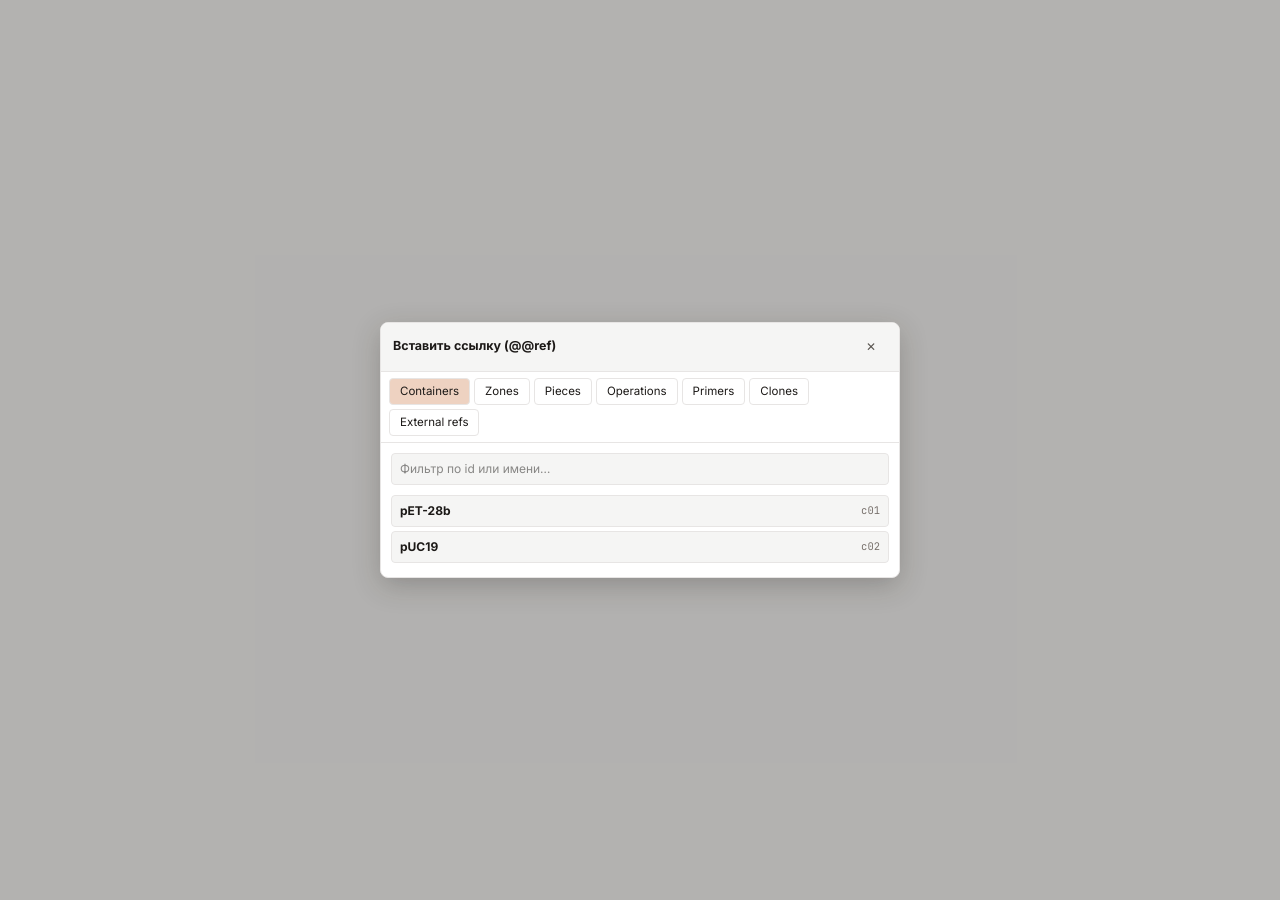
Test case: NB-K14 — NotebookRefPickerModal UI › search filter narrows the list
The width and height of the screenshot is (1280, 900).
Type "pUC" into the field with test id "ref-picker-search".
click(640, 469); type("pUC")  # box [391, 453, 889, 485]
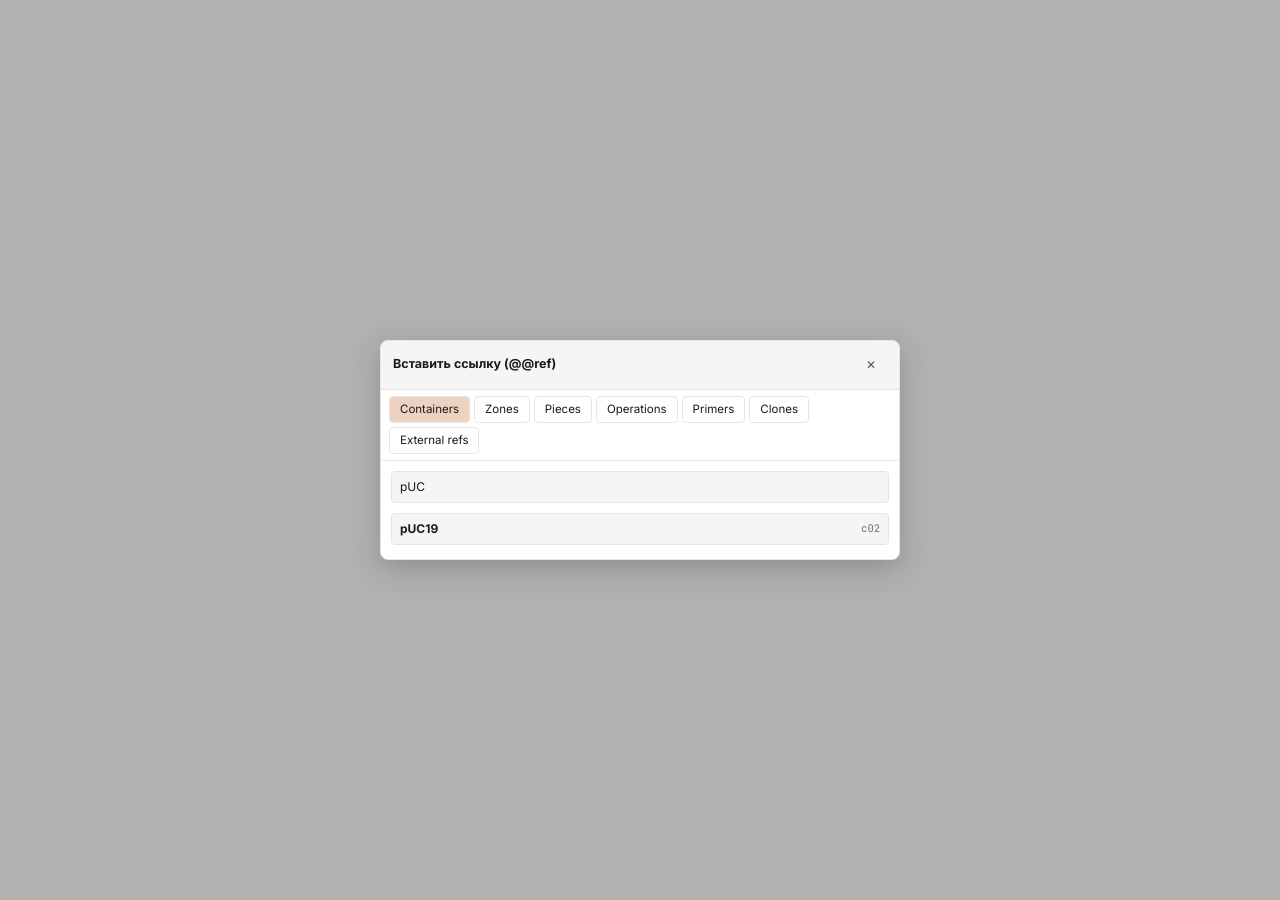
Expected: the button with test id "ref-picker-item-c02" is shown, [391, 513, 889, 545]
Now the button with test id "ref-picker-item-c01" is gone
